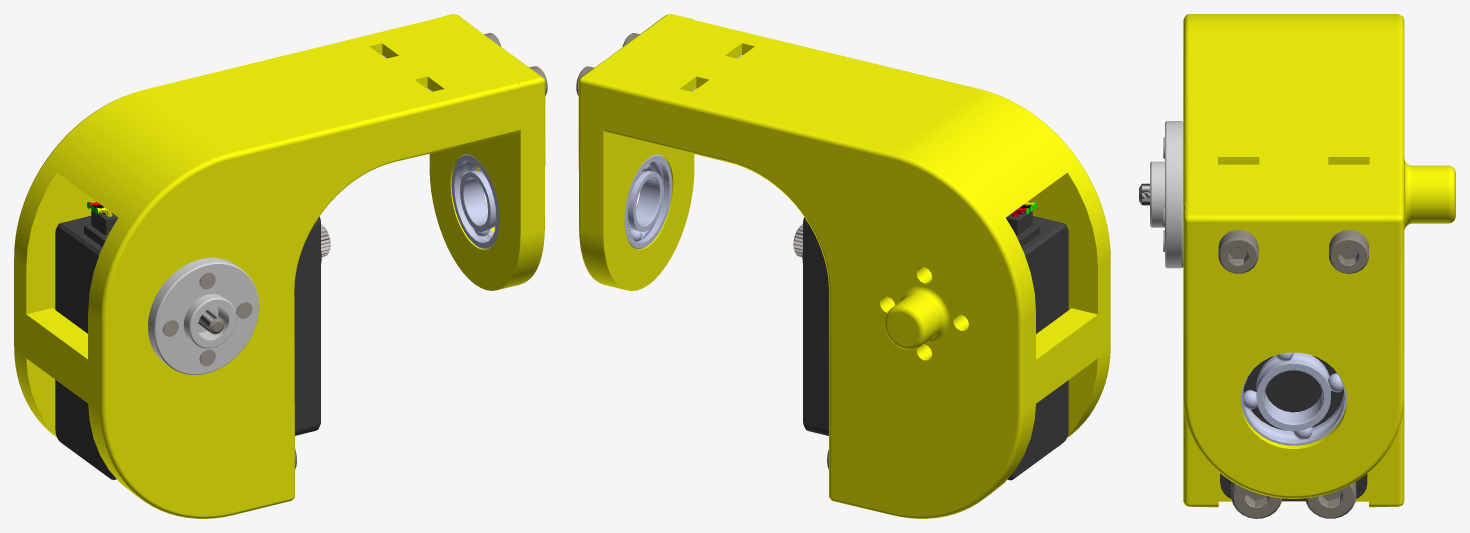
3 renders of one model, left to right at view 1: azimuth 30°, elevation 25°; view 2: azimuth 150°, elevation 25°; view 3: azimuth 270°, elevation 25°, orthographic. The views are drawn at different scales.
Visible parts, largest first — view 1: mesh 1 FR1 joint-1/FR - Servo Housing-1, mesh 2 FR1 joint-1/CLS6336HV-1, mesh 10 Sweep1 face, mesh 14 Chamfer2, mesh 13 Chamfer1; view 2: mesh 1 FR1 joint-1/FR - Servo Housing-1, mesh 2 FR1 joint-1/CLS6336HV-1, mesh 14 Chamfer2; view 3: mesh 1 FR1 joint-1/FR - Servo Housing-1, mesh 9 Boss-Extrude3, mesh 14 Chamfer2, mesh 10 Sweep1 face, mesh 2 FR1 joint-1/CLS6336HV-1.
Part boxes in pixels (x1,y1,x2,y2): mesh 1 FR1 joint-1/FR - Servo Housing-1: (14, 14, 545, 518); mesh 2 FR1 joint-1/CLS6336HV-1: (55, 210, 321, 479); mesh 10 Sweep1 face: (148, 257, 259, 374); mesh 14 Chamfer2: (451, 154, 499, 248); mesh 13 Chamfer1: (162, 272, 252, 366); mesh 1 FR1 joint-1/FR - Servo Housing-1: (578, 14, 1110, 518); mesh 2 FR1 joint-1/CLS6336HV-1: (802, 211, 1068, 480); mesh 14 Chamfer2: (624, 154, 672, 249); mesh 1 FR1 joint-1/FR - Servo Housing-1: (1183, 14, 1455, 507); mesh 9 Boss-Extrude3: (1139, 184, 1368, 518); mesh 14 Chamfer2: (1240, 352, 1346, 445); mesh 10 Sweep1 face: (1150, 121, 1183, 268); mesh 2 FR1 joint-1/CLS6336HV-1: (1220, 356, 1367, 500).
Size of the model in its own units: 0.0877 by 0.066 by 0.043.
Materials: 14 (1 with a texture image).
